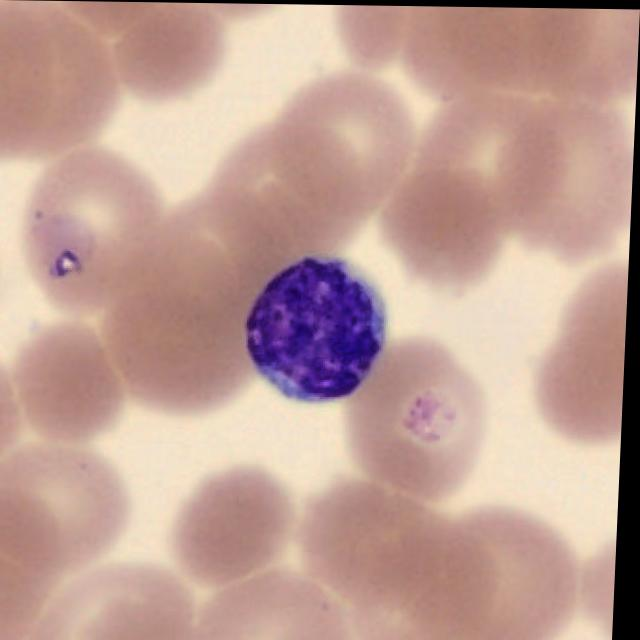Linfocito: (247, 254, 393, 401)
